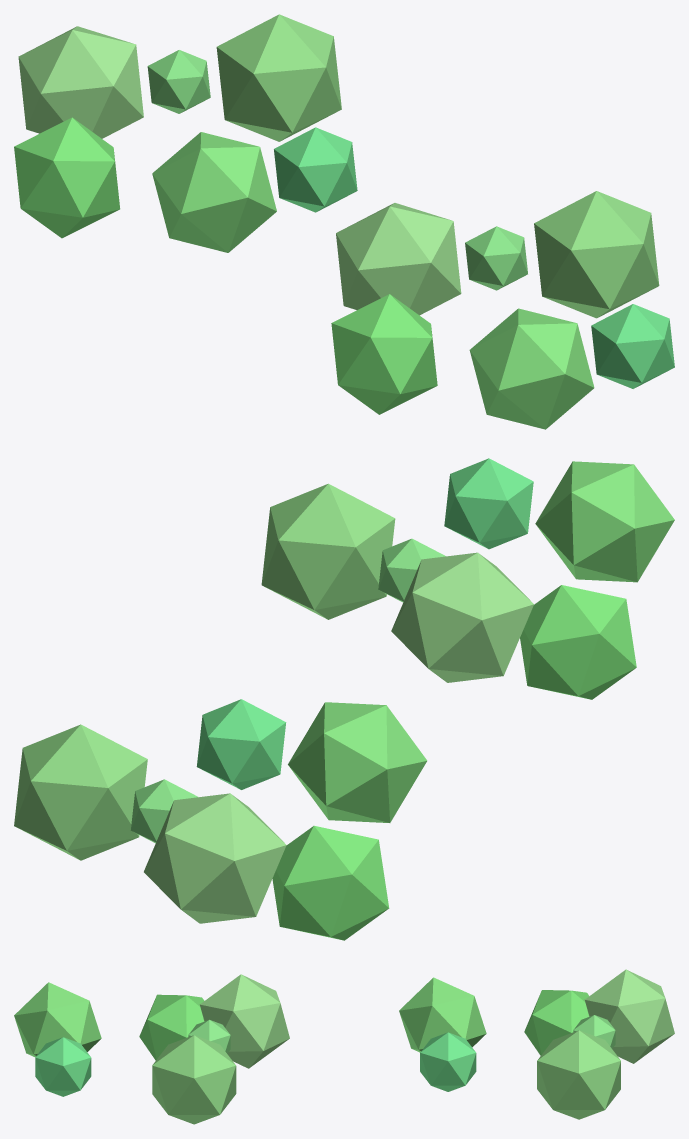
The model's file is tree.glb.
The picture shows the model from 3 angles, top to bottom: view 1: azimuth 30°, elevation 25°; view 2: azimuth 150°, elevation 25°; view 3: azimuth 270°, elevation 25°; orthographic projection. The views are drawn at different scales.
Visible parts, largest first — view 1: Icosphere.009, Icosphere.003, Icosphere.008, Icosphere.002, Icosphere.001, Icosphere.007, Icosphere.011, Icosphere.005, Icosphere.006, Icosphere, Icosphere.010, Icosphere.004; view 2: Icosphere.003, Icosphere.009, Icosphere.008, Icosphere.002, Icosphere.001, Icosphere.007, Icosphere.005, Icosphere.011, Icosphere, Icosphere.006, Icosphere.004, Icosphere.010; view 3: Icosphere.003, Icosphere.009, Icosphere.002, Icosphere.008, Icosphere.001, Icosphere.007, Icosphere.011, Icosphere.005, Icosphere.006, Icosphere, Icosphere.010, Icosphere.004.
Part boxes in pixels (left/top/right/bottom): Icosphere.009: left=216, top=14, right=341, bottom=141; Icosphere.003: left=534, top=191, right=659, bottom=318; Icosphere.008: left=18, top=26, right=143, bottom=138; Icosphere.002: left=336, top=203, right=461, bottom=315; Icosphere.001: left=469, top=308, right=594, bottom=429; Icosphere.007: left=152, top=132, right=276, bottom=252; Icosphere.011: left=14, top=117, right=120, bottom=238; Icosphere.005: left=331, top=294, right=437, bottom=414; Icosphere.006: left=274, top=127, right=357, bottom=212; Icosphere: left=591, top=304, right=674, bottom=388; Icosphere.010: left=147, top=50, right=210, bottom=113; Icosphere.004: left=465, top=226, right=527, bottom=290; Icosphere.003: left=261, top=483, right=395, bottom=619; Icosphere.009: left=14, top=724, right=147, bottom=860; Icosphere.008: left=144, top=793, right=286, bottom=923; Icosphere.002: left=391, top=552, right=533, bottom=682; Icosphere.001: left=535, top=461, right=674, bottom=582; Icosphere.007: left=288, top=702, right=427, bottom=822; Icosphere.005: left=520, top=585, right=636, bottom=699; Icosphere.011: left=272, top=825, right=389, bottom=940; Icosphere: left=444, top=458, right=533, bottom=549; Icosphere.006: left=196, top=699, right=286, bottom=789; Icosphere.004: left=378, top=538, right=445, bottom=602; Icosphere.010: left=130, top=779, right=197, bottom=843; Icosphere.003: left=152, top=1035, right=236, bottom=1124; Icosphere.009: left=537, top=1030, right=620, bottom=1119; Icosphere.002: left=199, top=974, right=289, bottom=1068; Icosphere.008: left=585, top=969, right=674, bottom=1063; Icosphere.001: left=14, top=982, right=101, bottom=1056; Icosphere.007: left=399, top=977, right=486, bottom=1052; Icosphere.011: left=524, top=990, right=589, bottom=1055; Icosphere.005: left=139, top=994, right=204, bottom=1060; Icosphere.006: left=420, top=1032, right=476, bottom=1091; Icosphere: left=35, top=1037, right=91, bottom=1096; Icosphere.010: left=573, top=1015, right=615, bottom=1048; Icosphere.004: left=188, top=1019, right=230, bottom=1053.
Size of what is drawn, in the model's own units: 9.1 by 4.05 by 20.02.
